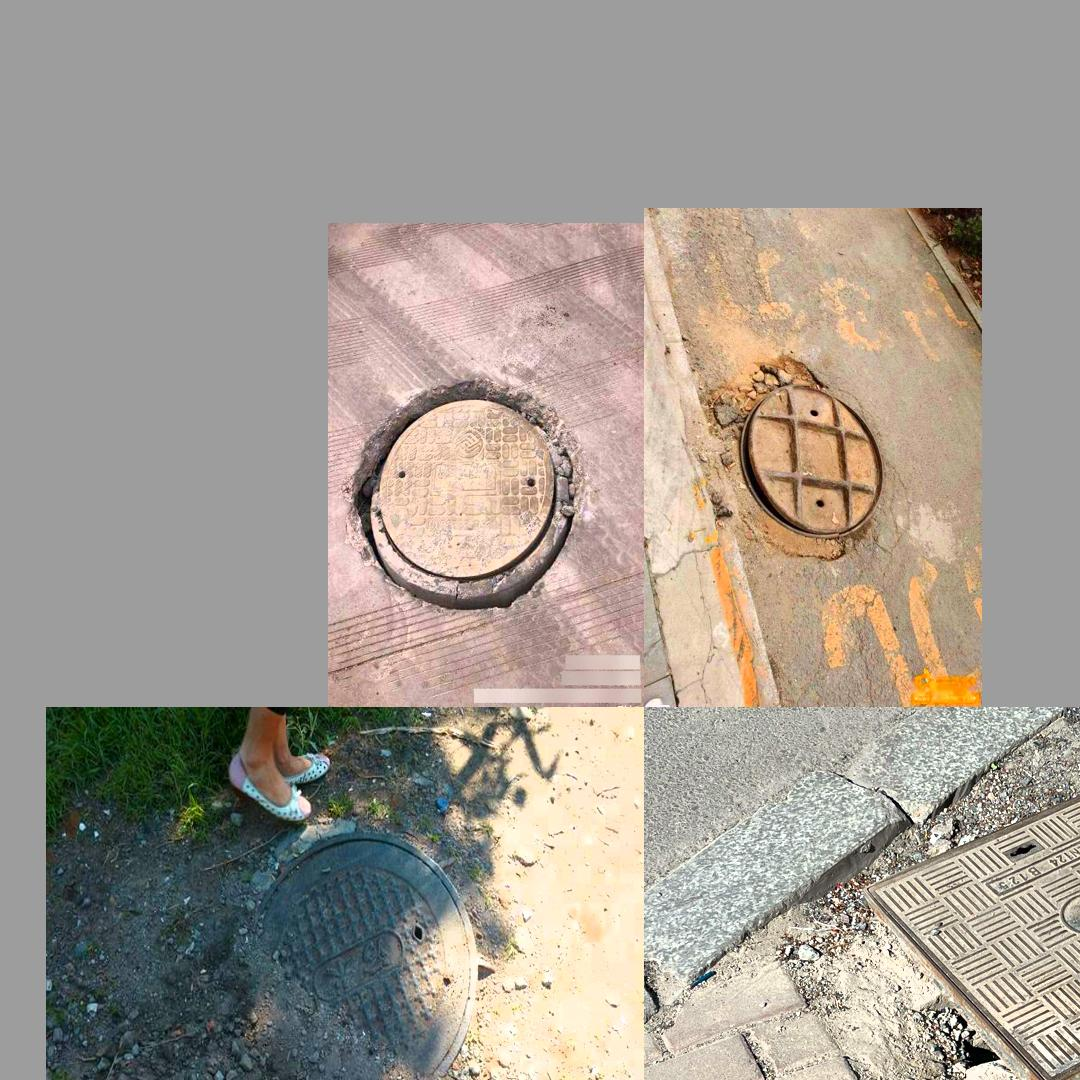circle: (777, 770, 1080, 1080), (192, 823, 536, 1080), (354, 381, 580, 615), (682, 351, 907, 574)
